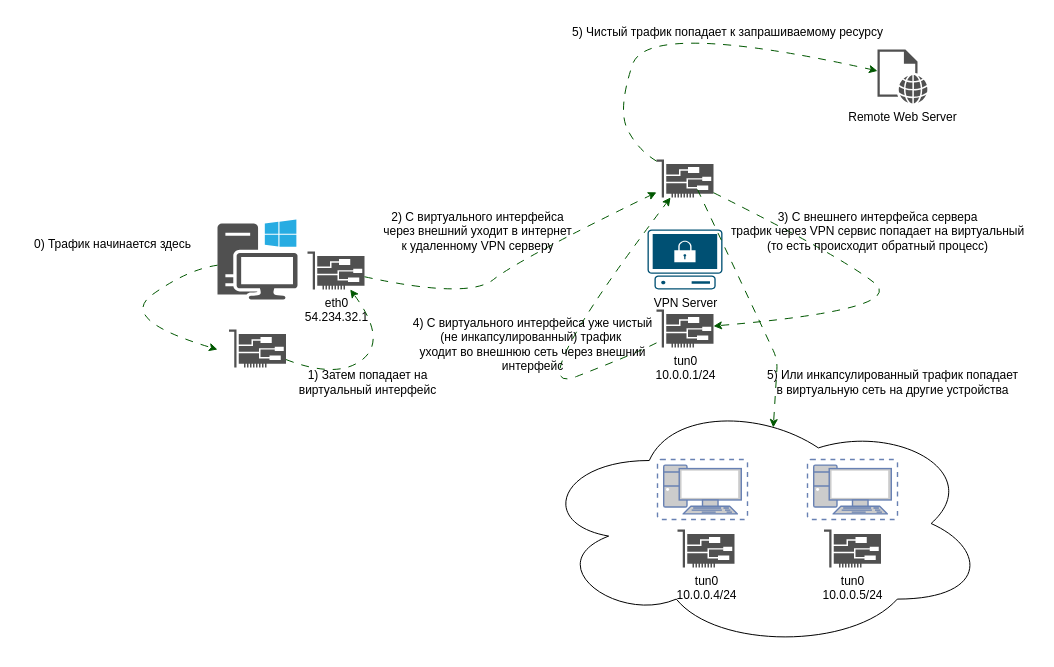
Image size: 1054x667. Some labels were removed from this diagram. The centre of each missing label's shape, as x and y in pixels:
"eth0 132.65.12.10" goes at pixel 684 178.
"My PC" goes at pixel 257 259.
"tun0 10.0.0.2/24" goes at pixel 257 348.
